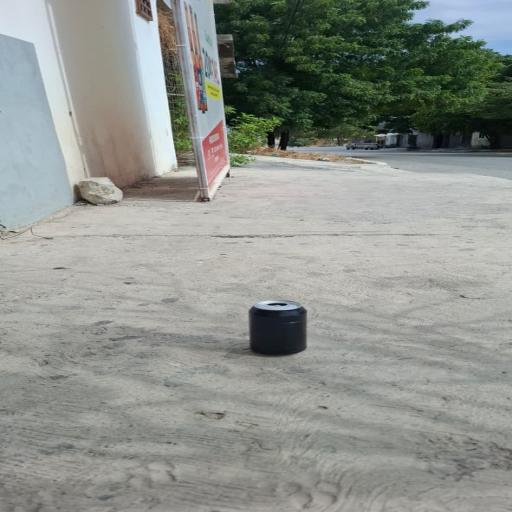LATA: (230, 290, 327, 363)
